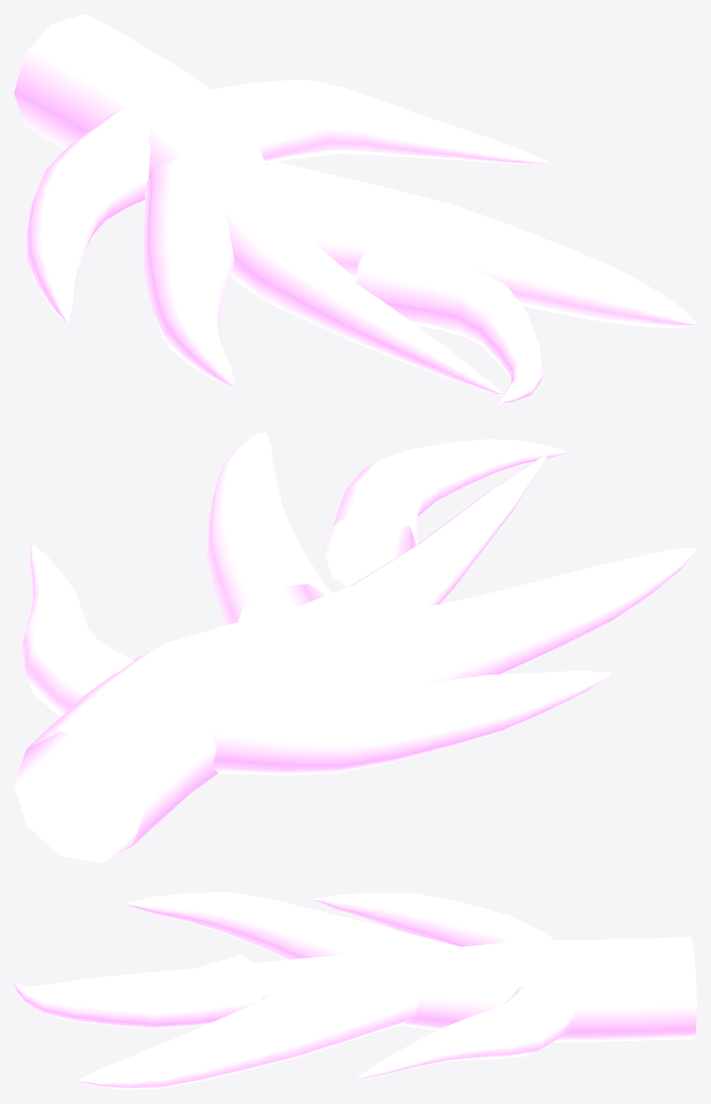
Rendered from CoralOrganicLavender_v07.glb.
3 views of the same model, one above another, from view 1: azimuth 30°, elevation 25°; view 2: azimuth 150°, elevation 25°; view 3: azimuth 270°, elevation 25° (orthographic). The views are drawn at different scales.
Parts seen in each view (by area): view 1: CoralOrganicLavender; view 2: CoralOrganicLavender; view 3: CoralOrganicLavender.
Part boxes in pixels (left/top/right/bottom): CoralOrganicLavender: left=14, top=14, right=696, bottom=403; CoralOrganicLavender: left=14, top=432, right=696, bottom=863; CoralOrganicLavender: left=14, top=892, right=696, bottom=1089.
Size of the model in its own units: 105 by 22.97 by 159.
